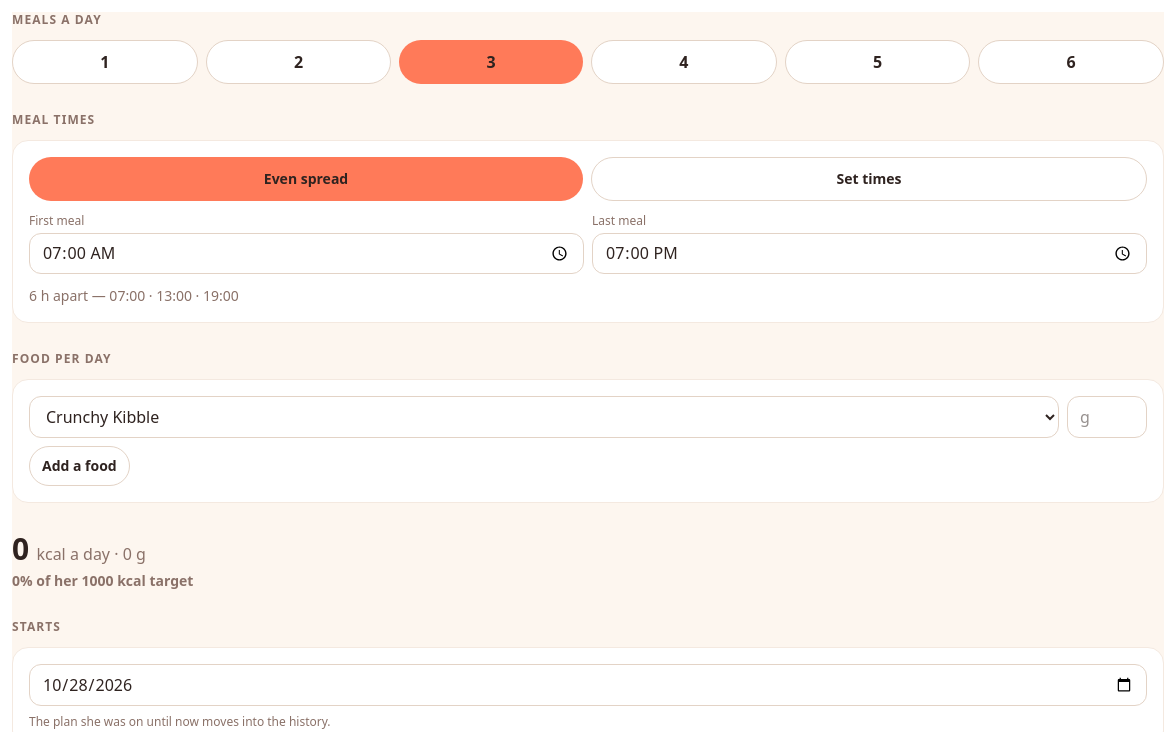
Test: PlanForm › shows a single meal at the start of the window
This screenshot has width=1176, height=732.
Click the button with test id "plan-meals-1" at (105, 62), box [12,40,198,84]
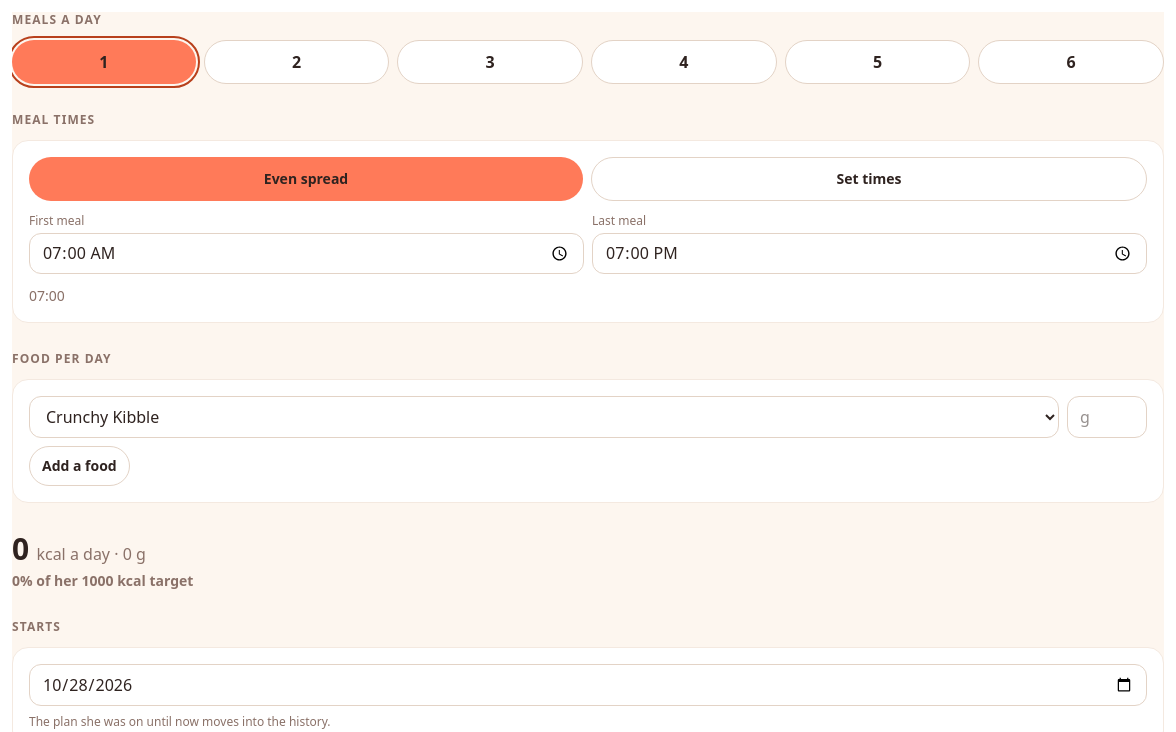
Now the text with test id "plan-times" reads "07:00", box [29,286,65,305]
